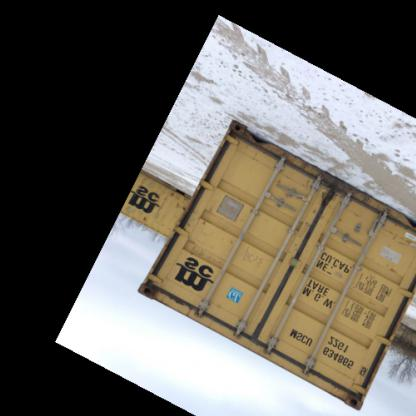Damage: (230, 124, 308, 163), (133, 268, 189, 318), (304, 182, 340, 218)
